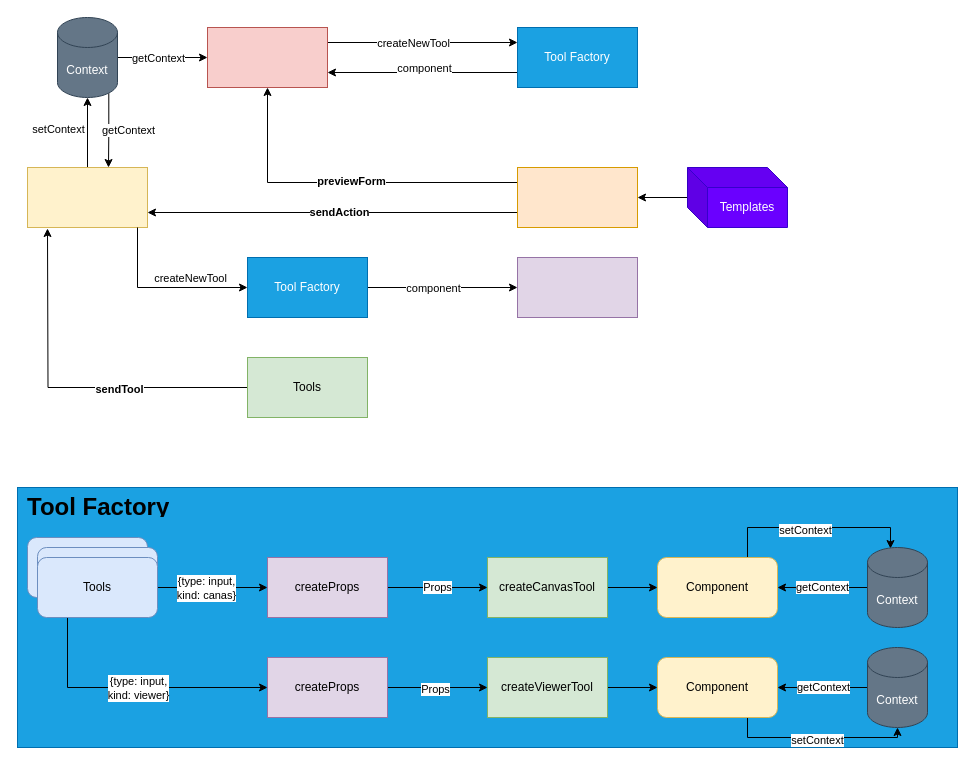
This 975x765 diagram has some shape labels left out. Here are the shapes that lost their labels. From the top down, the centre of each, then its label:
At (267,57): "Preview".
At (87,197): "Creator".
At (577,197): "Creator Menu".
At (577,287): "Canvas".
